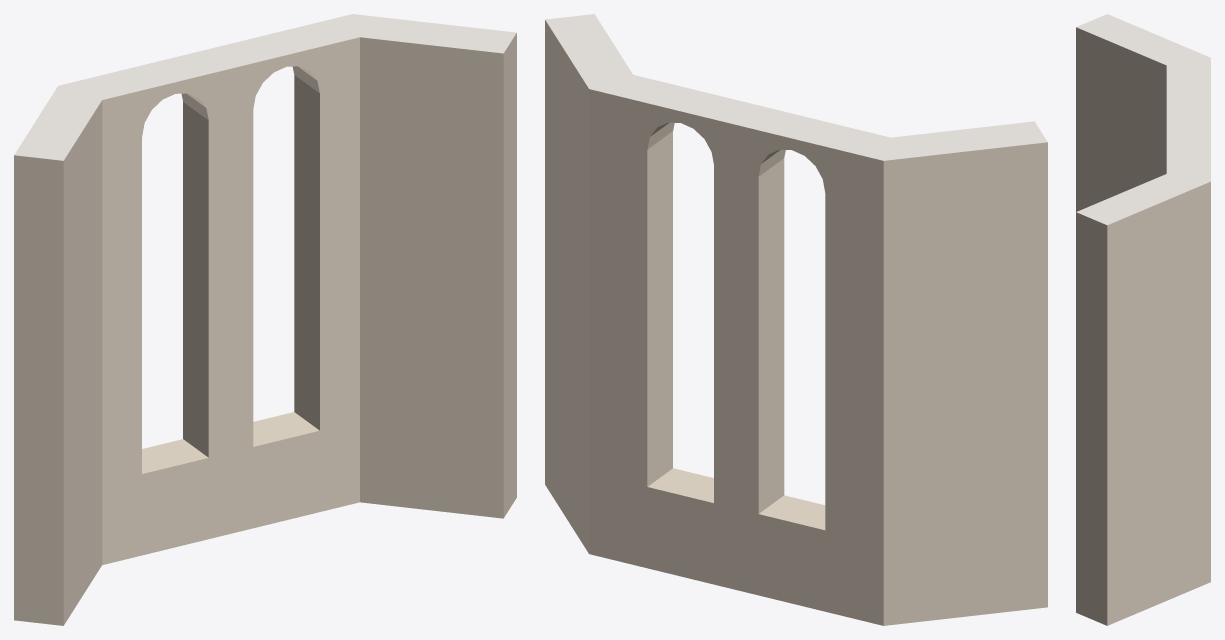
The model's file is Tower_Wall_Tall_Windows.glb.
3 renders of one model, left to right at view 1: azimuth 30°, elevation 25°; view 2: azimuth 150°, elevation 25°; view 3: azimuth 270°, elevation 25°, orthographic. The views are drawn at different scales.
Parts seen in each view (by area): view 1: Tower_Wall_Tall_Windows; view 2: Tower_Wall_Tall_Windows; view 3: Tower_Wall_Tall_Windows.
Boxes of the visible parts, left/top/right/bottom form: Tower_Wall_Tall_Windows: left=14, top=14, right=516, bottom=625; Tower_Wall_Tall_Windows: left=545, top=14, right=1047, bottom=625; Tower_Wall_Tall_Windows: left=1076, top=14, right=1210, bottom=625.
Size of the model in its own units: 2.26 by 2 by 0.6101.
